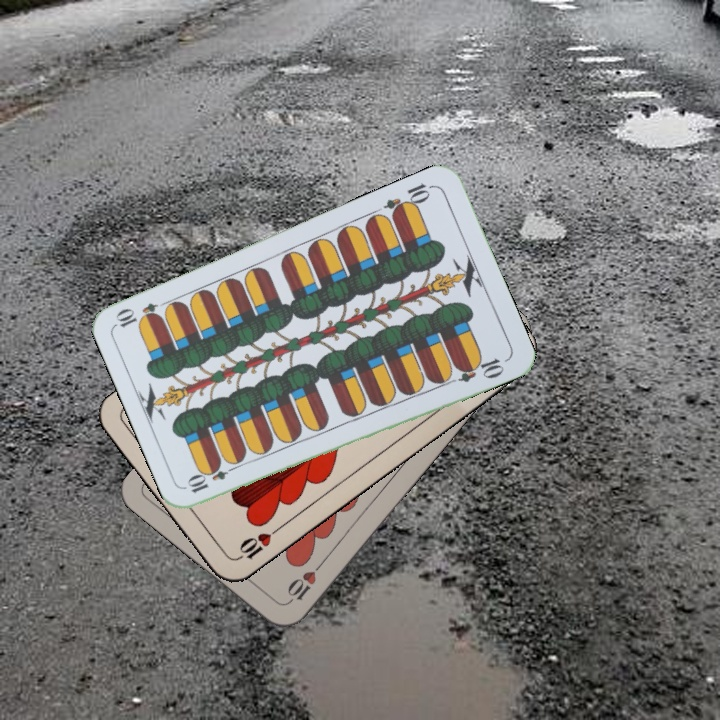E10: (380, 179, 437, 220), (184, 459, 241, 496)
H10: (282, 557, 327, 607), (231, 523, 283, 564)
